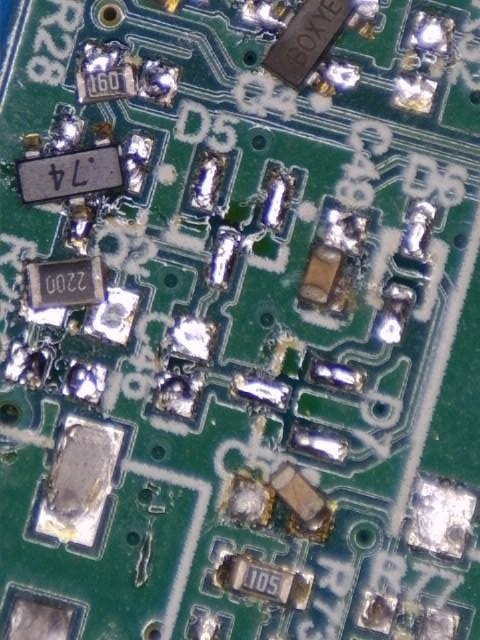pcb_defect: (15, 115, 156, 253), (241, 0, 380, 98), (17, 255, 140, 347), (222, 463, 338, 544), (298, 208, 370, 314), (75, 40, 182, 107)
